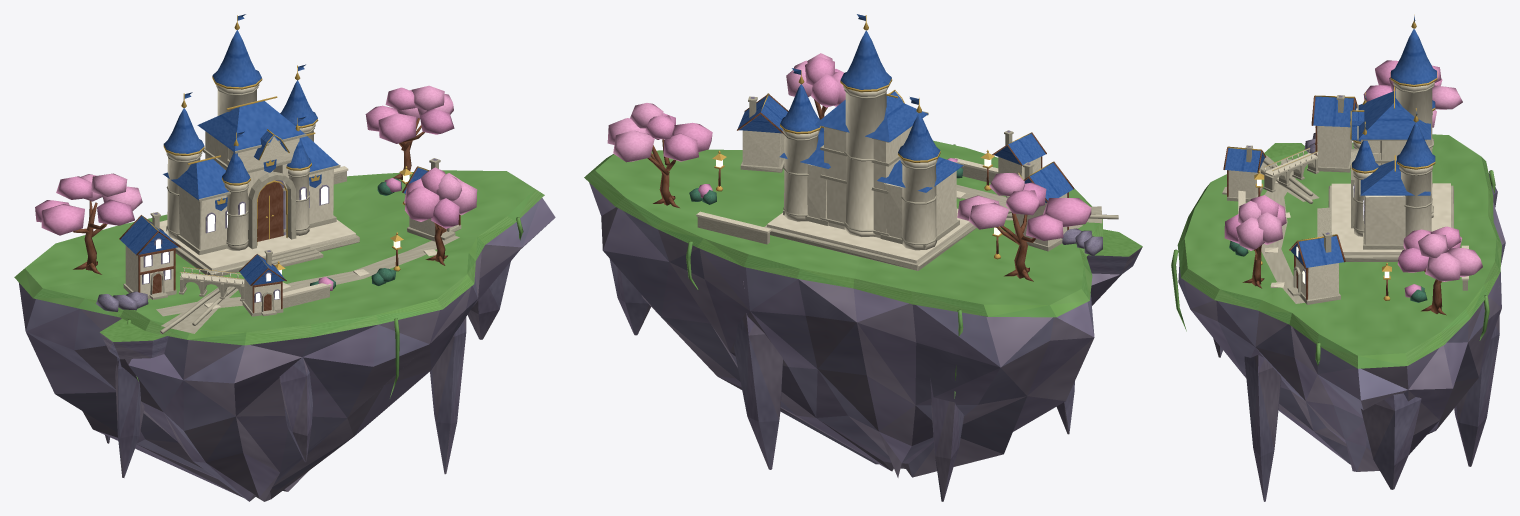
File: royal-island-left-distant.glb
3 views of the same model, side by side, from view 1: azimuth 30°, elevation 25°; view 2: azimuth 150°, elevation 25°; view 3: azimuth 270°, elevation 25° (orthographic). The views are drawn at different scales.
Visible parts, largest first — view 1: royal-island-left; view 2: royal-island-left; view 3: royal-island-left.
Boxes of the visible parts, <box> form: royal-island-left: <box>14,14,555,501</box>; royal-island-left: <box>584,14,1142,501</box>; royal-island-left: <box>1171,14,1505,501</box>.
Size of the model in its own units: 19.7 by 17.12 by 11.54.
10 materials, 10 textured.
